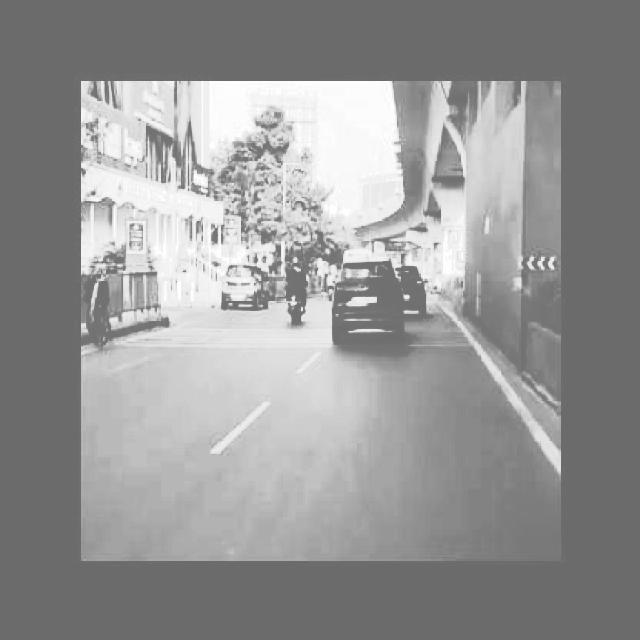Car: (329, 251, 440, 363), (218, 251, 282, 324)
